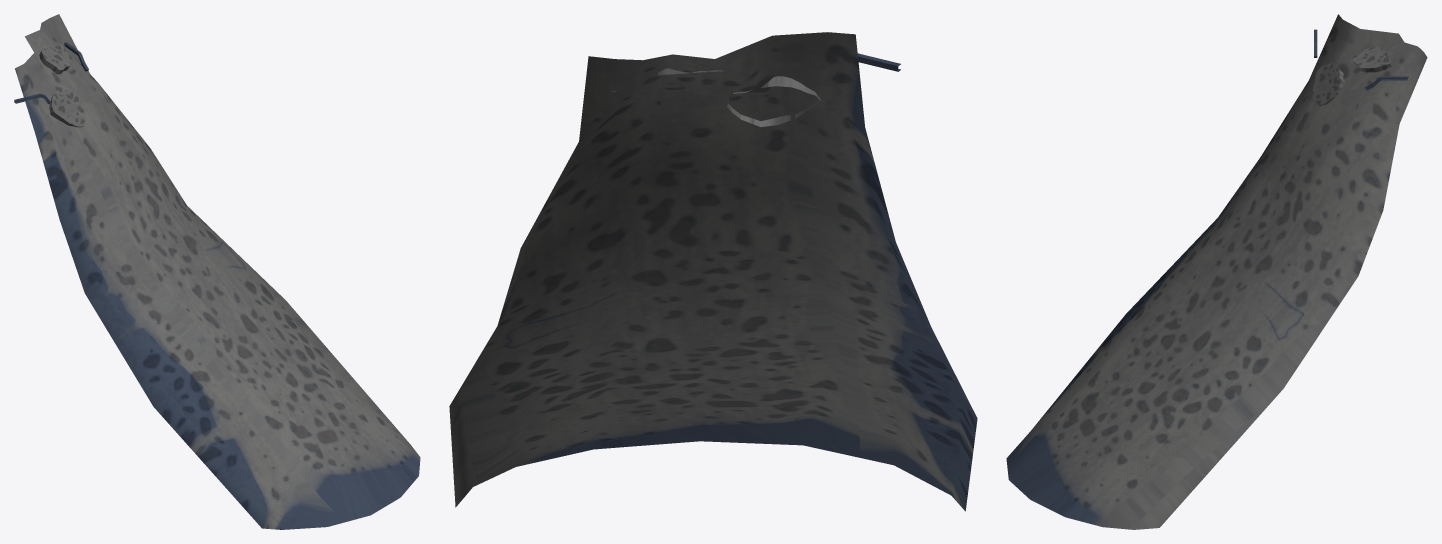
The model's file is StartingEntrance.fbx.
3 views of the same model, side by side, from view 1: azimuth 30°, elevation 25°; view 2: azimuth 150°, elevation 25°; view 3: azimuth 270°, elevation 25° (orthographic). The views are drawn at different scales.
Parts seen in each view (by area): view 1: pCube153, pCube157, pCube156; view 2: pCube153, pCube157; view 3: pCube153, pCube157, pCube156.
Part boxes in pixels (x1,y1,x2,y2): pCube153: (15,14,420,529); pCube157: (49,89,85,127); pCube156: (39,44,70,74); pCube153: (449,32,977,511); pCube157: (726,76,821,126); pCube153: (1006,14,1427,529); pCube157: (1312,63,1345,107); pCube156: (1353,46,1391,72).
Bounding box in the file's own units: 563 × 659 × 675.
Materials: 1 (1 with a texture image).
